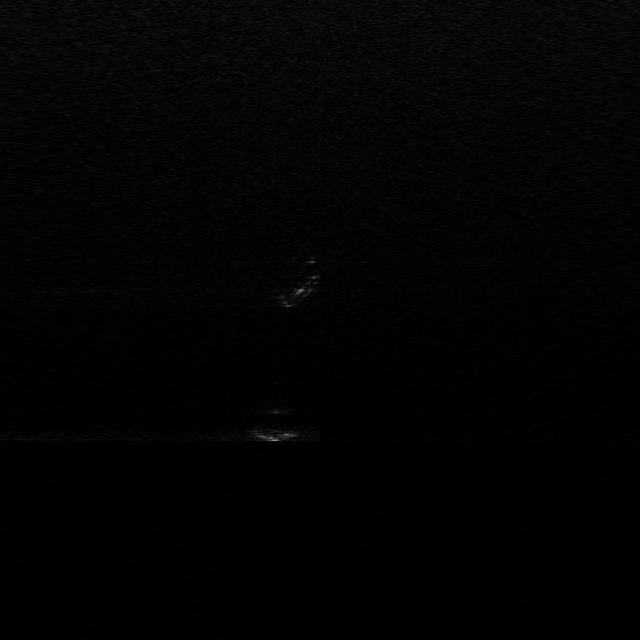ball: (253, 406, 306, 442)
tyre: (274, 268, 320, 310)
